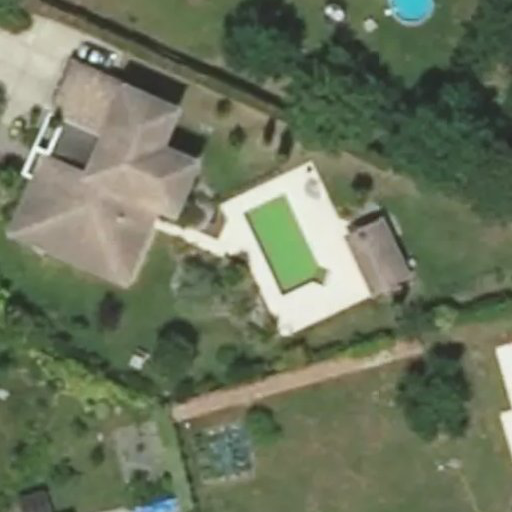pool: (242, 194, 327, 294), (388, 1, 435, 28)
